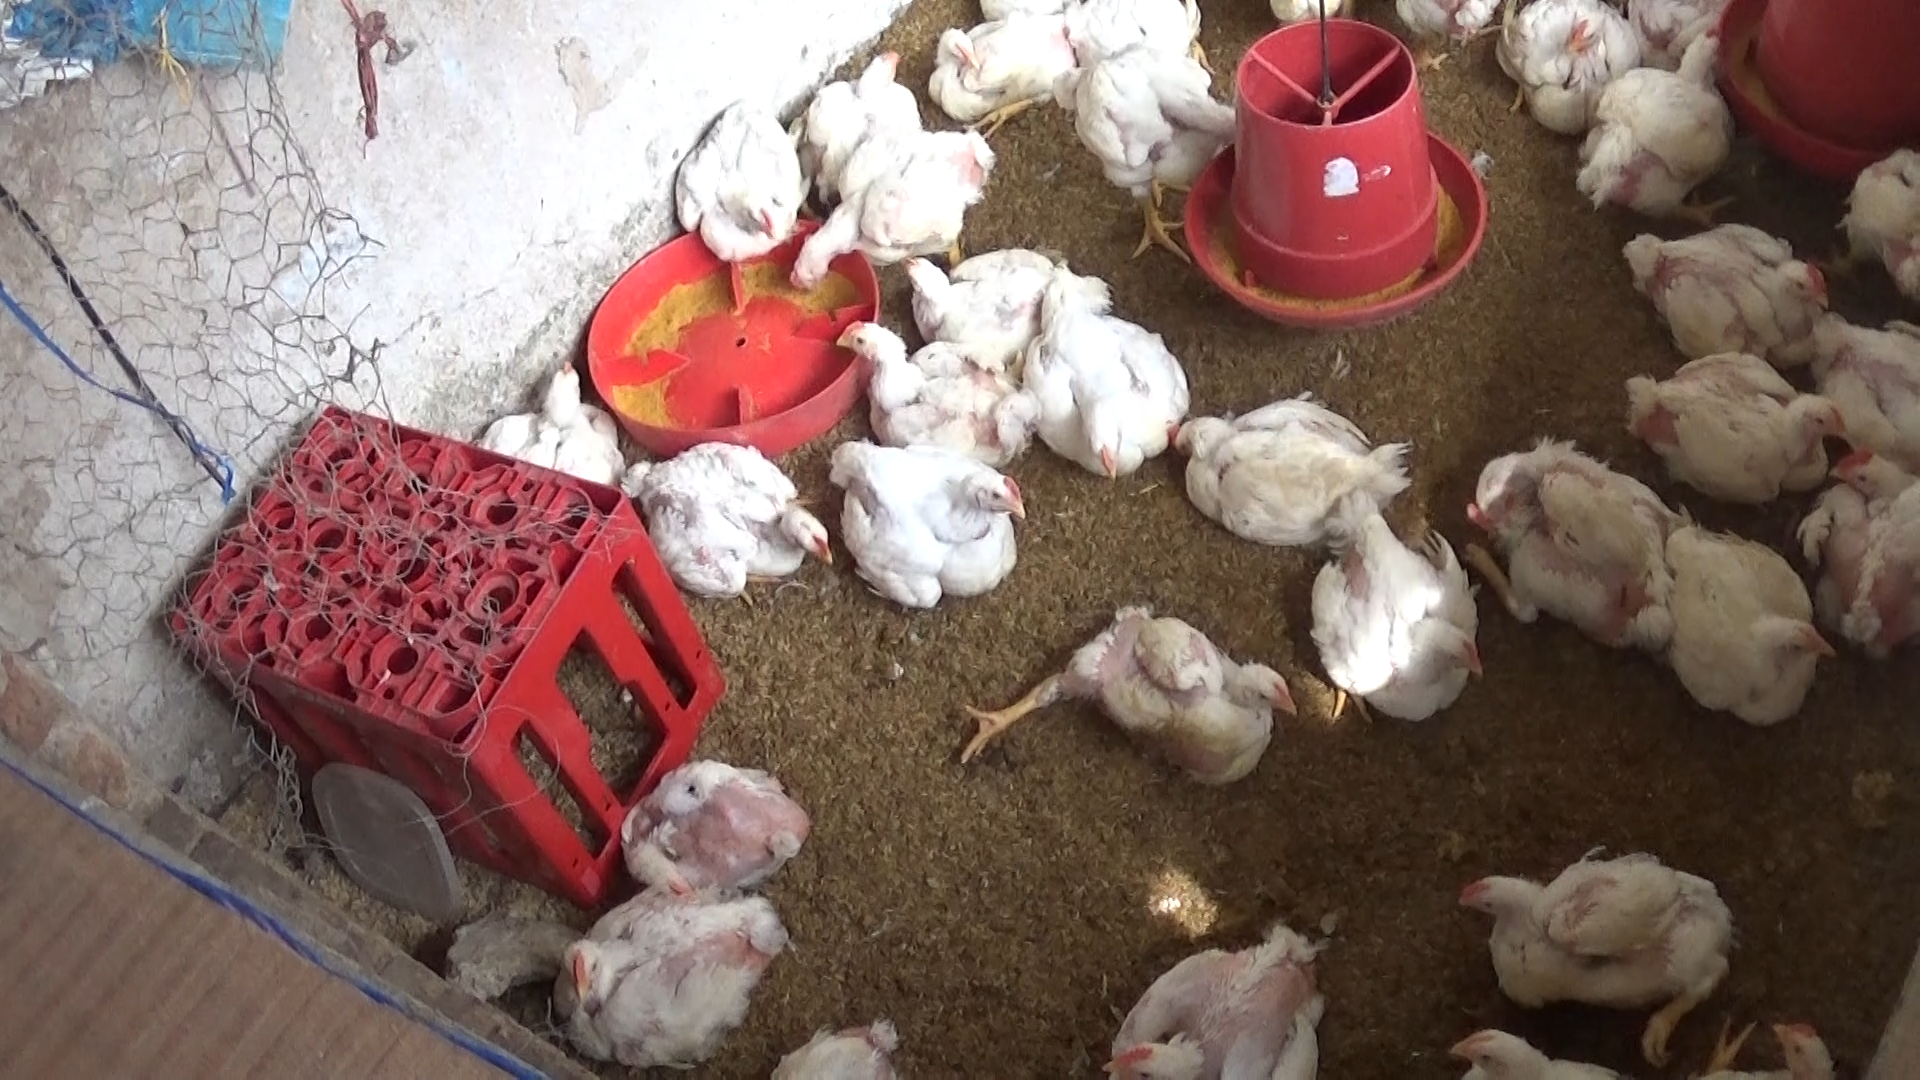Pollos: (951, 599, 1302, 807), (1456, 851, 1749, 1058), (1286, 468, 1487, 742), (1465, 400, 1671, 669), (1051, 33, 1271, 257), (537, 884, 789, 1073), (1665, 522, 1841, 775), (1087, 918, 1348, 1080), (1145, 386, 1408, 541), (777, 123, 1010, 293), (1631, 345, 1855, 513), (831, 431, 1031, 612), (632, 431, 840, 603), (1015, 268, 1174, 479), (1626, 198, 1825, 361), (666, 84, 806, 316), (1572, 33, 1745, 214), (1805, 431, 1920, 684), (612, 764, 818, 898), (833, 314, 1022, 458), (1780, 282, 1920, 452), (469, 357, 634, 488), (887, 233, 1051, 363), (1825, 113, 1920, 314), (928, 7, 1087, 127), (1495, 0, 1644, 123), (782, 46, 924, 171), (741, 997, 915, 1080), (1436, 1025, 1622, 1080), (1749, 1002, 1847, 1080)
